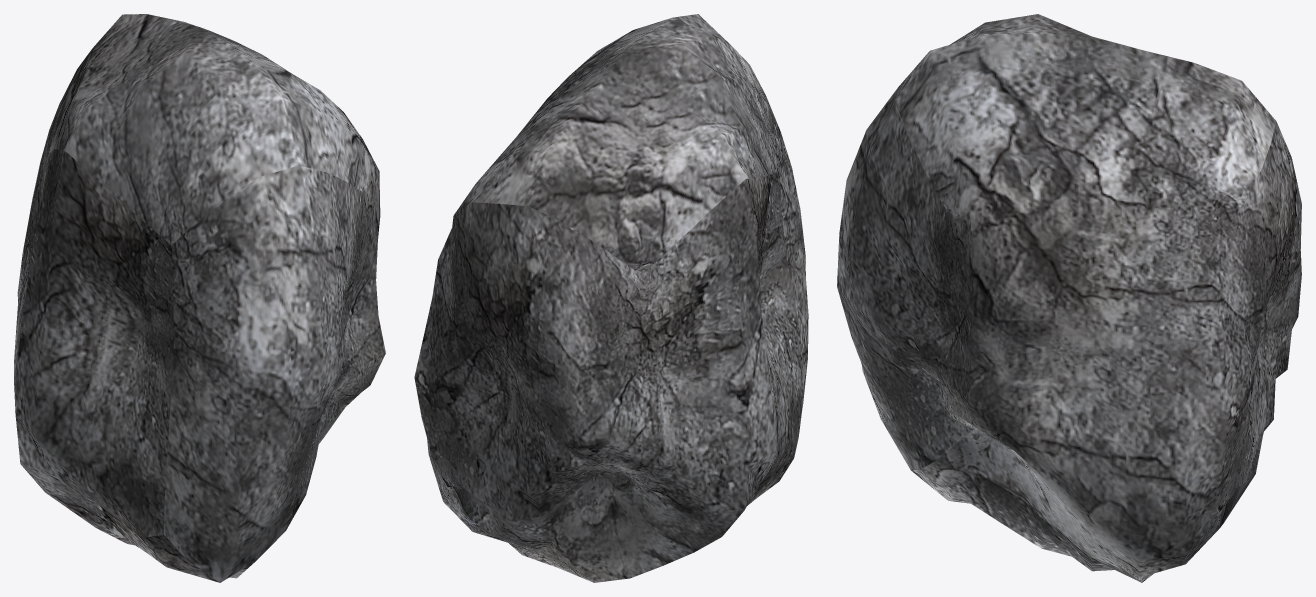
The model's file is asteroid1.glb.
The picture shows the model from 3 angles, left to right: view 1: azimuth 30°, elevation 25°; view 2: azimuth 150°, elevation 25°; view 3: azimuth 270°, elevation 25°; orthographic projection. The views are drawn at different scales.
Visible parts, largest first — view 1: Cube.036; view 2: Cube.036; view 3: Cube.036.
Boxes of the visible parts, x1=… form: Cube.036: x1=14, y1=14, x2=385, y2=582; Cube.036: x1=414, y1=14, x2=808, y2=582; Cube.036: x1=837, y1=14, x2=1301, y2=582.
Size of the model in its own units: 17.53 by 28.09 by 22.4.
1 material, 1 textured.
